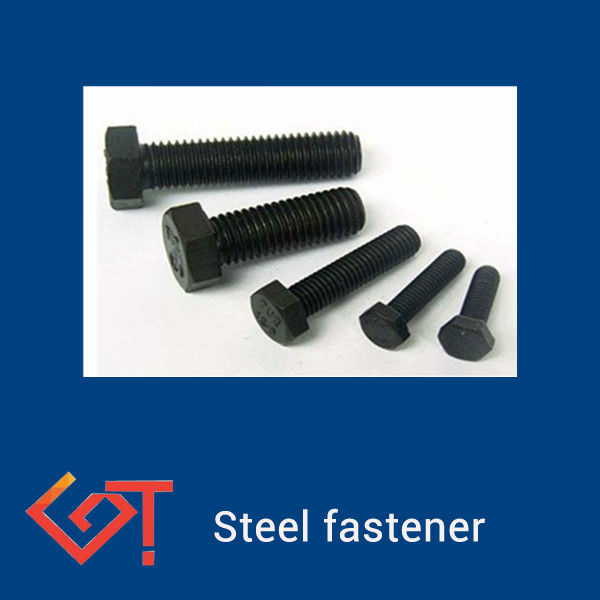screw: (104, 125, 362, 210), (161, 186, 366, 291), (249, 224, 422, 346), (359, 249, 466, 349), (436, 264, 499, 363)
